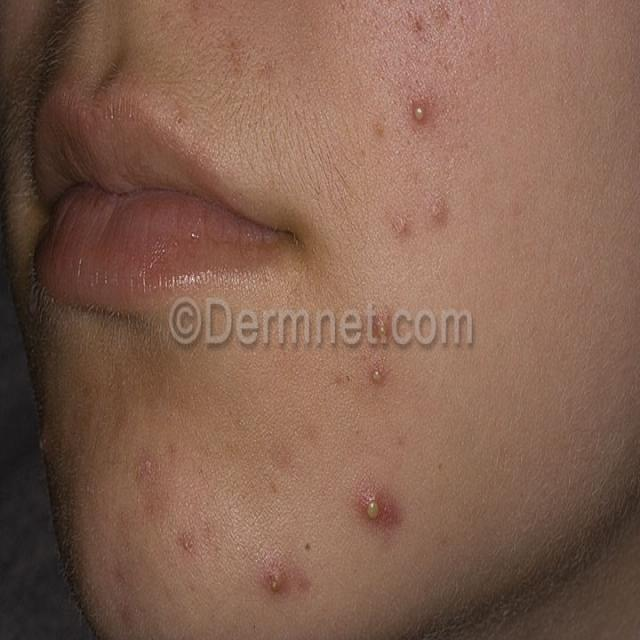blackheads: (352, 484, 406, 540), (254, 550, 301, 599), (403, 93, 443, 133), (425, 190, 453, 243), (362, 358, 397, 398), (382, 205, 415, 244), (136, 448, 163, 480), (34, 423, 53, 457), (175, 531, 197, 557)
